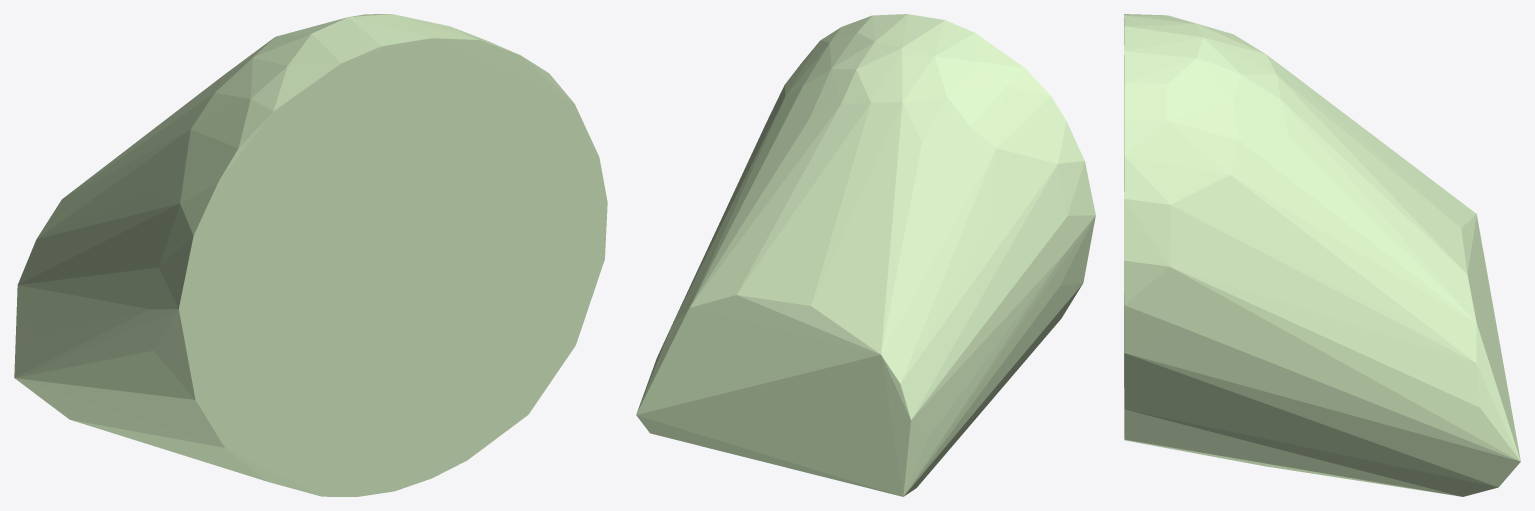
Rendered from kuka_link5_resp_coll_4.dae.
3 renders of one model, left to right at view 1: azimuth 30°, elevation 25°; view 2: azimuth 150°, elevation 25°; view 3: azimuth 270°, elevation 25°, orthographic. The views are drawn at different scales.
Parts seen in each view (by area): view 1: Node_0000015C5C916960; view 2: Node_0000015C5C916960; view 3: Node_0000015C5C916960.
Boxes of the visible parts, left/top/right/bottom form: Node_0000015C5C916960: left=14, top=14, right=607, bottom=496; Node_0000015C5C916960: left=636, top=14, right=1095, bottom=496; Node_0000015C5C916960: left=1124, top=14, right=1520, bottom=496.
Size of the model in its own units: 0.1363 by 0.1452 by 0.1258.
